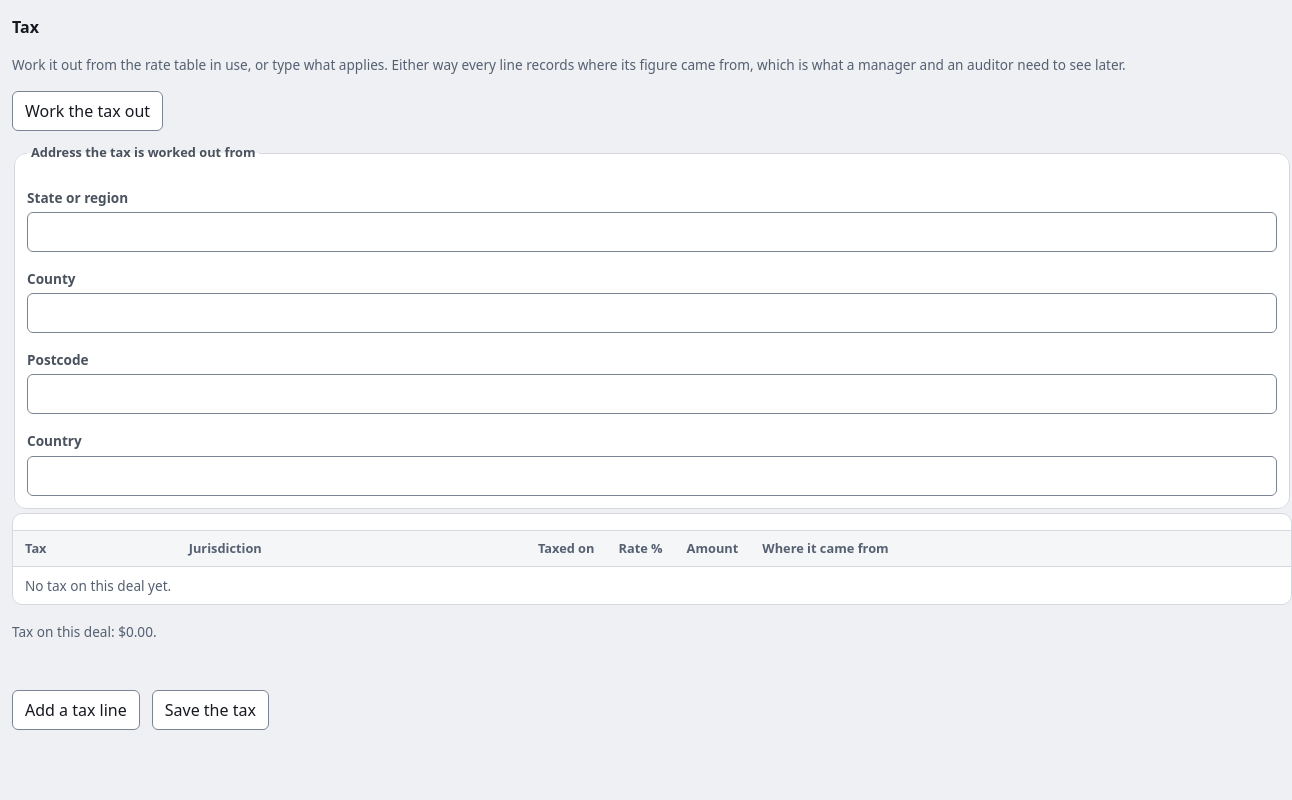
Scenario: working the tax out from the rate table › says what happened when it resolves nothing: NoAddress
Click the button "Work the tax out" at (88, 112), box left=12, top=92, right=163, bottom=132
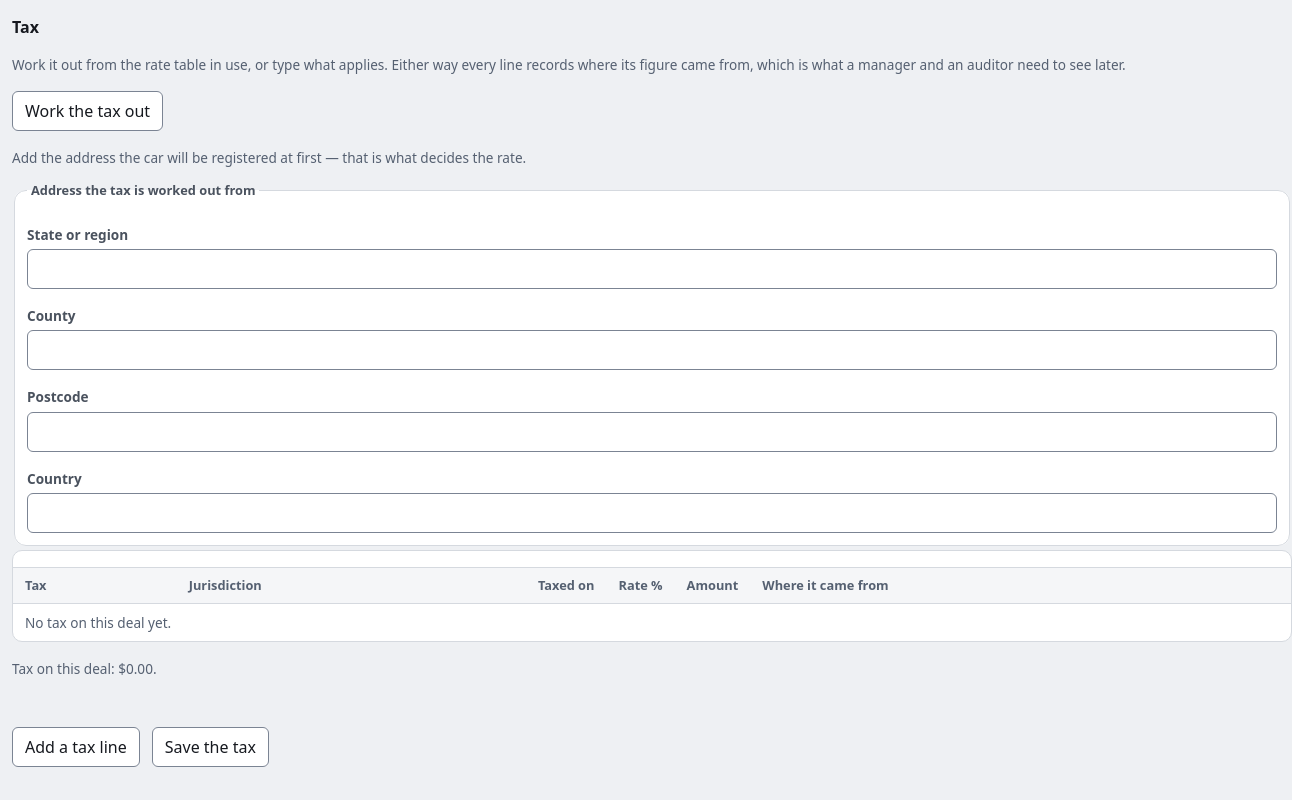
Result: the text "Add the address the car will be registered at first" is shown at left=12, top=148, right=526, bottom=168
